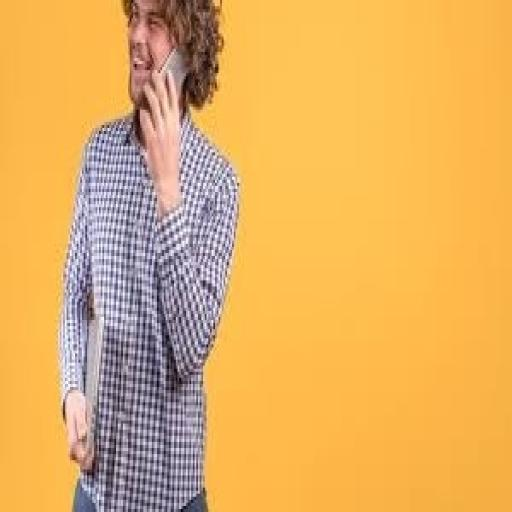calling: (56, 0, 241, 509)
